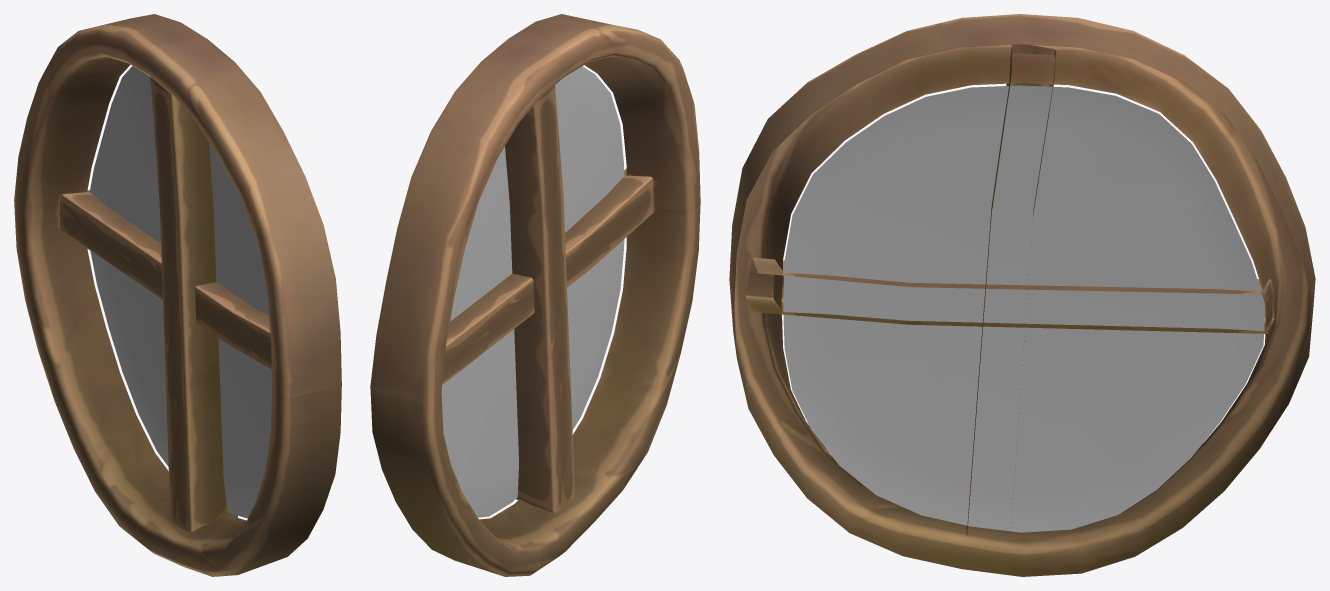
Rendered from SM_Window_03.fbx.
3 views of the same model, side by side, from view 1: azimuth 30°, elevation 25°; view 2: azimuth 150°, elevation 25°; view 3: azimuth 270°, elevation 25° (orthographic). The views are drawn at different scales.
Visible parts, largest first — view 1: SM_Window_03_LOD0; view 2: SM_Window_03_LOD0; view 3: SM_Window_03_LOD0.
Boxes of the visible parts, x1=… form: SM_Window_03_LOD0: x1=14, y1=14, x2=341, y2=576; SM_Window_03_LOD0: x1=370, y1=14, x2=700, y2=576; SM_Window_03_LOD0: x1=729, y1=14, x2=1315, y2=576.
Bounding box in the file's own units: 13.99 × 104 × 105.
2 materials, 1 textured.
